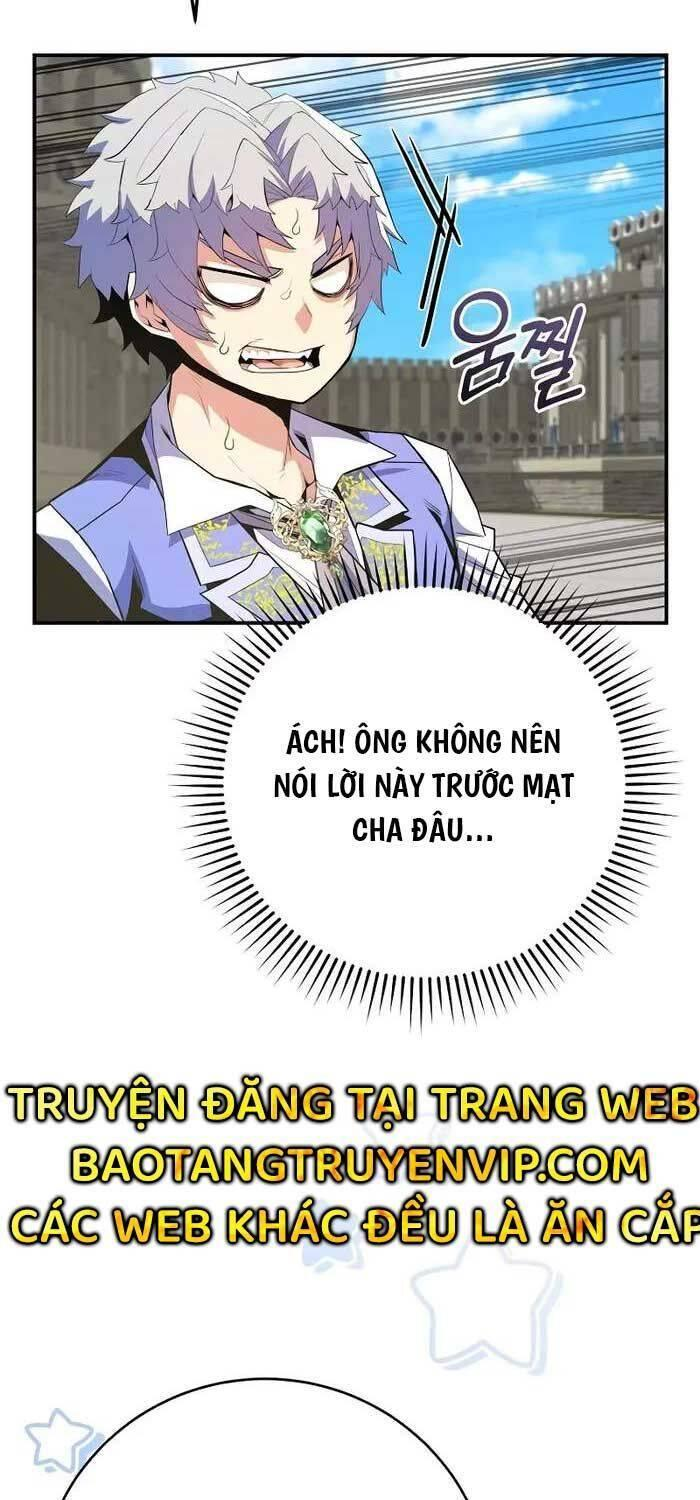quangcao: (4, 1074, 700, 1268)
